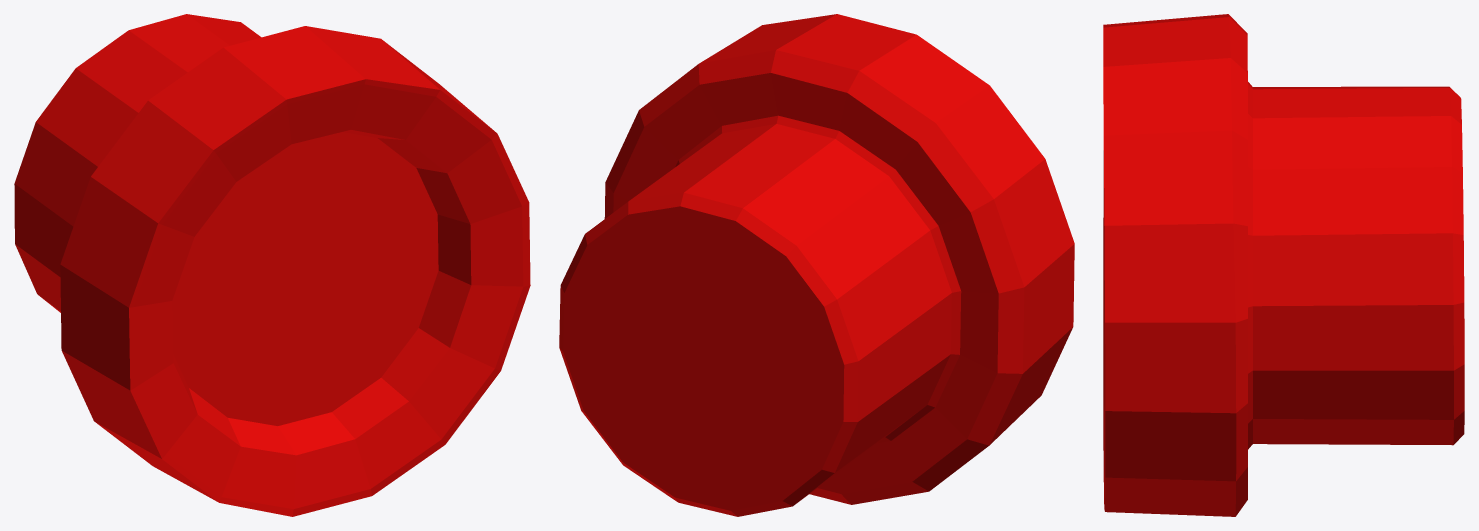
The model's file is TestKitKnob.fbx.
The picture shows the model from 3 angles, left to right: view 1: azimuth 30°, elevation 25°; view 2: azimuth 150°, elevation 25°; view 3: azimuth 270°, elevation 25°; orthographic projection. The views are drawn at different scales.
Visible parts, largest first — view 1: knob_lp_Baked; view 2: knob_lp_Baked; view 3: knob_lp_Baked.
Part boxes in pixels (bbox=[...]): knob_lp_Baked: bbox=[14, 14, 530, 516]; knob_lp_Baked: bbox=[559, 14, 1074, 516]; knob_lp_Baked: bbox=[1103, 14, 1464, 516].
Size of the model in its own units: 62.17 by 62.2 by 44.79.
